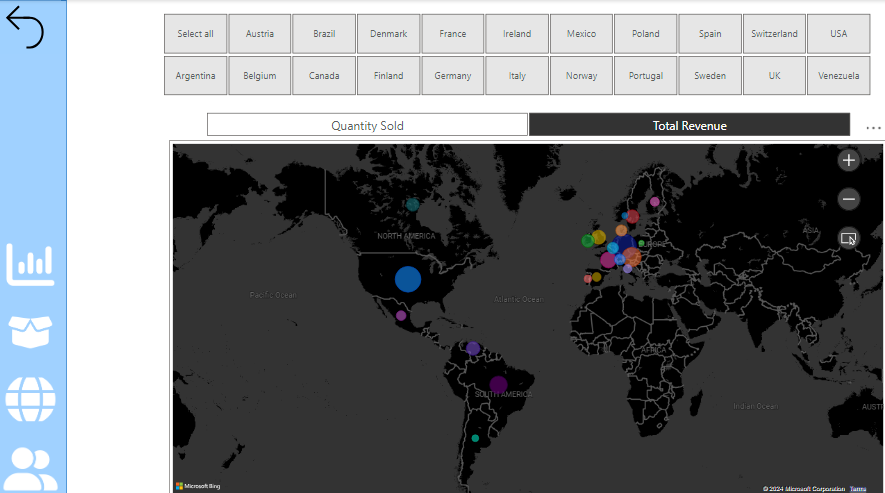

The dashboard page shown, as its layout file describes it:
{"tool":"powerbi","page":{"name":"Region ","canvas":[1280,720],"ordinal":2},"visuals":[{"type":"map","fields":{"Size":["_Measures Table.Total Revenue"],"Category":["customers.country","customers.city"],"Series":["customers.country"]},"box":[246.2,201.6,1033.9,518.4],"z":0},{"type":"slicer","fields":{"Values":["customers.country"]},"box":[213.1,13,1067,131],"z":1000},{"type":"slicer","fields":{"Values":["Parametet 1.Parametet 1"]},"box":[275,155.5,976.3,46.1],"z":2000},{"type":"shape","box":[0,0,99.2,800],"z":3000},{"type":"image","box":[7.2,345.6,79.2,70.6],"z":4000},{"type":"image","box":[5.8,538.6,82.1,73.4],"z":5000},{"type":"image","box":[10.1,440.6,73.4,76.3],"z":6000},{"type":"image","box":[2.8,628.8,88,91.2],"z":7000},{"type":"actionButton","box":[0,0,90.7,77.8],"z":8000}]}

Visuals, with their boxes on the page's 1280x720 design canvas (x1, y1, x2, y2). These are canvas units, not pixel positions in the 885x493 screenshot, which may show the page scaled, cropped or inside an application window:
map - _Measures Table.Total Revenue x customers.country: crop(246, 202, 1280, 720)
slicer - customers.country: crop(213, 13, 1280, 144)
slicer - Parametet 1.Parametet 1: crop(275, 156, 1251, 202)
shape: crop(0, 0, 99, 800)
image: crop(7, 346, 86, 416)
image: crop(6, 539, 88, 612)
image: crop(10, 441, 84, 517)
image: crop(3, 629, 91, 720)
actionButton: crop(0, 0, 91, 78)
